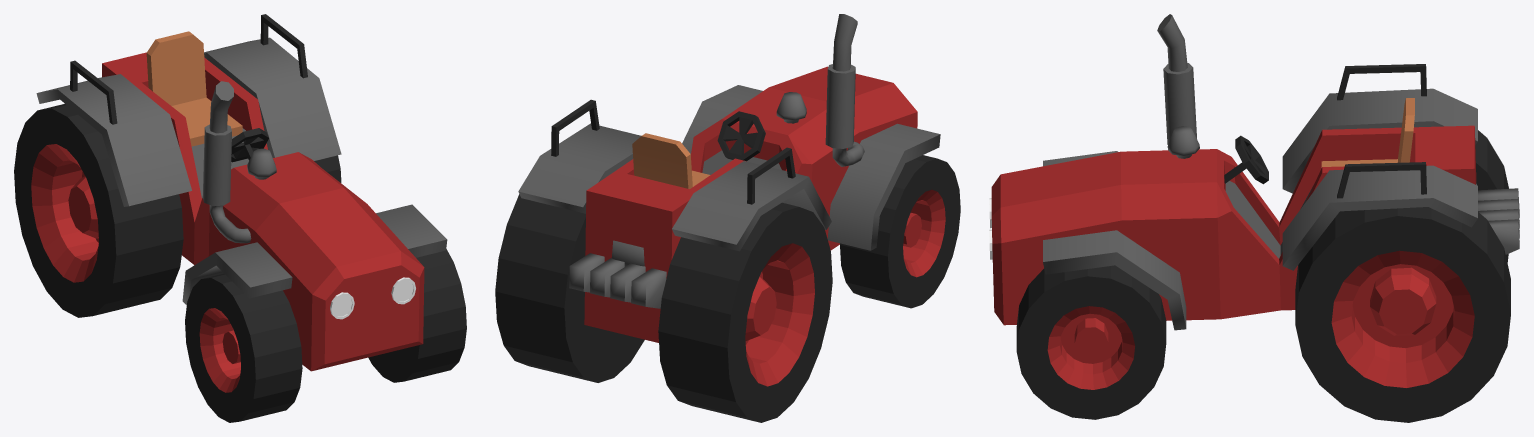
Rendered from 051 Tractor.FBX.
3 views of the same model, side by side, from view 1: azimuth 30°, elevation 25°; view 2: azimuth 150°, elevation 25°; view 3: azimuth 270°, elevation 25° (orthographic). The views are drawn at different scales.
Visible parts, largest first — view 1: Box282, Plane139, Wheel022, Wheel024, Wheel023, Box283, Tube010, Line195, Line196, Cylinder091, Cylinder092; view 2: Plane139, Wheel022, Box282, Wheel021, Wheel024, Box283, Tube010, Line195, Line196; view 3: Box282, Wheel021, Plane139, Wheel023, Wheel022, Box283, Line196, Line195, Tube010.
Boxes of the visible parts, bbox=[...] form: Box282: bbox=[102, 52, 424, 371]; Plane139: bbox=[36, 37, 447, 304]; Wheel022: bbox=[14, 104, 183, 317]; Wheel024: bbox=[185, 273, 302, 422]; Wheel023: bbox=[368, 249, 466, 382]; Box283: bbox=[146, 31, 242, 146]; Tube010: bbox=[231, 128, 268, 162]; Line195: bbox=[260, 14, 307, 78]; Line196: bbox=[70, 60, 117, 124]; Cylinder091: bbox=[330, 292, 354, 319]; Cylinder092: bbox=[391, 277, 415, 304]; Plane139: bbox=[518, 14, 940, 308]; Wheel022: bbox=[658, 202, 832, 422]; Box282: bbox=[584, 66, 917, 342]; Wheel021: bbox=[495, 194, 644, 382]; Wheel024: bbox=[840, 155, 960, 308]; Box283: bbox=[632, 133, 710, 188]; Tube010: bbox=[717, 111, 765, 161]; Line195: bbox=[551, 99, 599, 156]; Line196: bbox=[747, 147, 795, 204]; Box282: bbox=[991, 125, 1476, 325]; Wheel021: bbox=[1295, 207, 1510, 422]; Plane139: bbox=[1043, 14, 1519, 330]; Wheel023: bbox=[1016, 265, 1166, 419]; Wheel022: bbox=[1475, 130, 1508, 262]; Box283: bbox=[1321, 98, 1414, 167]; Line196: bbox=[1337, 64, 1426, 100]; Line195: bbox=[1337, 162, 1426, 198]; Tube010: bbox=[1224, 135, 1268, 184].
Size of the model in its own units: 152 by 193 by 293.
